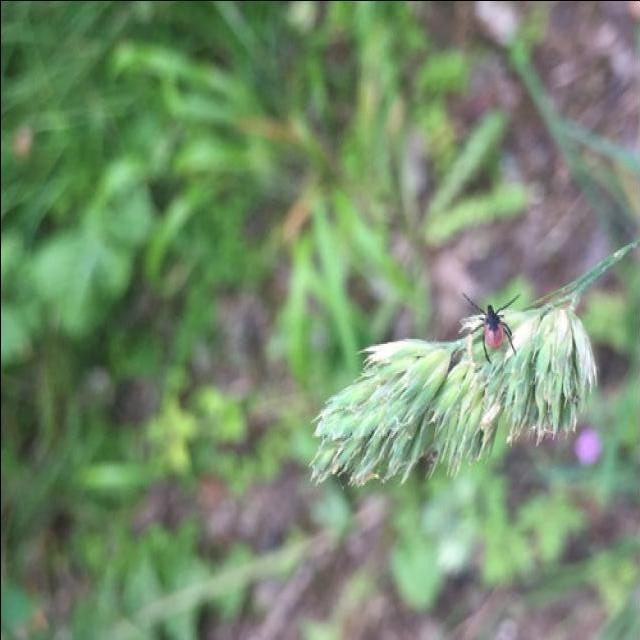Ixodes Ricinus-F: (460, 299, 550, 367)
